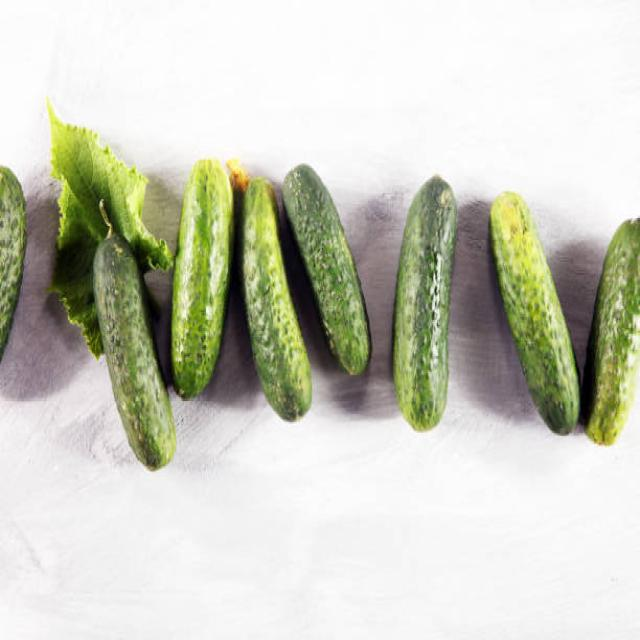cucumber: (486, 188, 580, 440), (91, 236, 178, 470), (280, 164, 372, 376), (242, 175, 314, 424), (392, 172, 459, 432), (172, 156, 231, 402), (584, 218, 640, 447)
